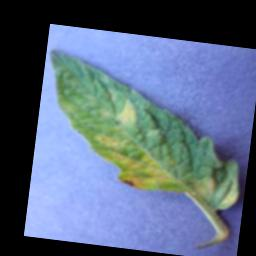Leaf_Mold: (86, 132, 196, 194), (113, 97, 139, 129)
